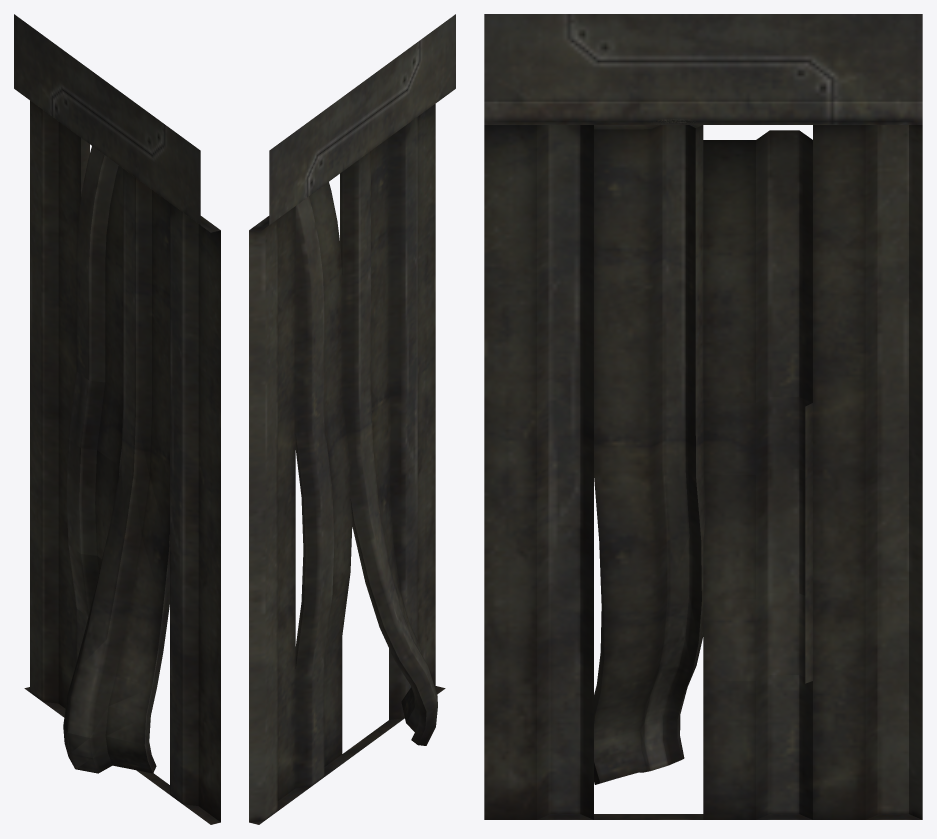
File: pplant_bulkhead_short_damage02.dae
3 renders of one model, left to right at view 1: azimuth 30°, elevation 25°; view 2: azimuth 150°, elevation 25°; view 3: azimuth 270°, elevation 25°, orthographic. The views are drawn at different scales.
Visible parts, largest first — view 1: bulkhead_short_damaged02; view 2: bulkhead_short_damaged02; view 3: bulkhead_short_damaged02.
Boxes of the visible parts, x1,y1,x2,y2 form: bulkhead_short_damaged02: (14, 14, 220, 824); bulkhead_short_damaged02: (249, 14, 455, 824); bulkhead_short_damaged02: (484, 14, 922, 819).
Size of the model in its own units: 0.6005 by 4 by 2.
